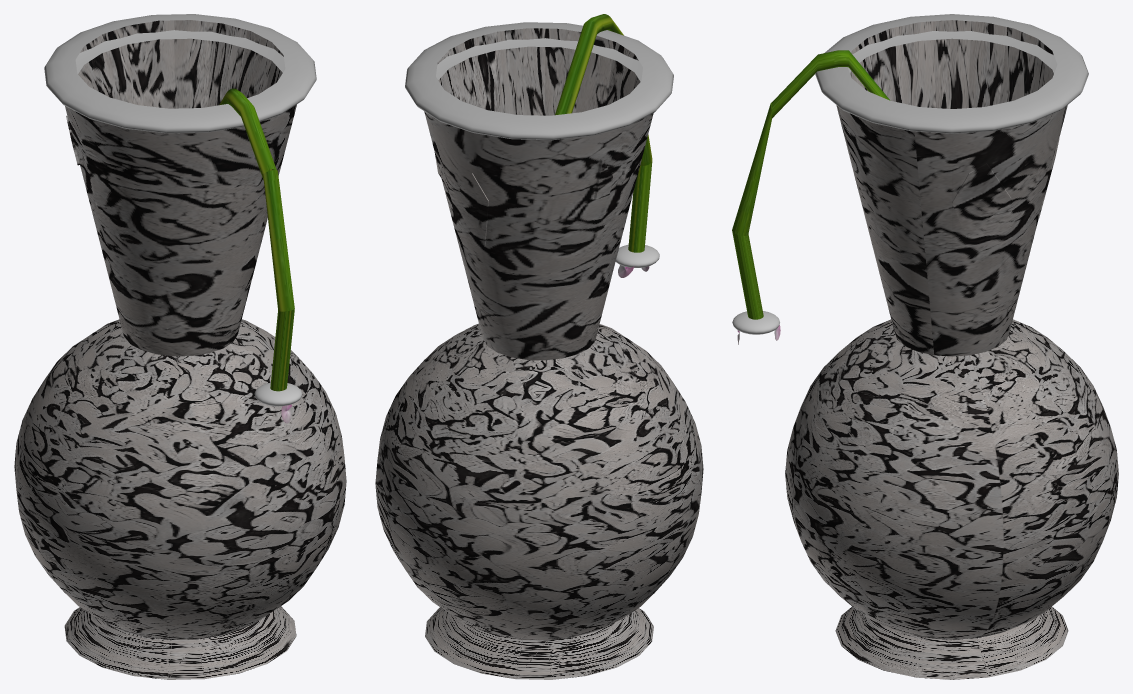
The model's file is David_vase.fbx.
The picture shows the model from 3 angles, left to right: view 1: azimuth 30°, elevation 25°; view 2: azimuth 150°, elevation 25°; view 3: azimuth 270°, elevation 25°; orthographic projection.
Parts seen in each view (by area): view 1: pCylinder6, pTorus1, pCylinder7, pSphere2; view 2: pCylinder6, pTorus1, pCylinder7, pSphere2; view 3: pCylinder6, pTorus1, pCylinder7, pSphere2.
Part boxes in pixels (bbox=[...]): pCylinder6: bbox=[14, 20, 346, 679]; pTorus1: bbox=[44, 14, 316, 133]; pCylinder7: bbox=[219, 88, 294, 391]; pSphere2: bbox=[254, 382, 302, 406]; pCylinder6: bbox=[375, 28, 703, 679]; pTorus1: bbox=[405, 22, 673, 140]; pCylinder7: bbox=[555, 14, 652, 252]; pSphere2: bbox=[615, 244, 659, 267]; pCylinder6: bbox=[785, 20, 1118, 679]; pTorus1: bbox=[815, 14, 1088, 133]; pCylinder7: bbox=[732, 50, 890, 319]; pSphere2: bbox=[732, 311, 779, 334].
Bounding box in the file's own units: 2 × 3.83 × 2.32.
5 materials, 3 textured.
